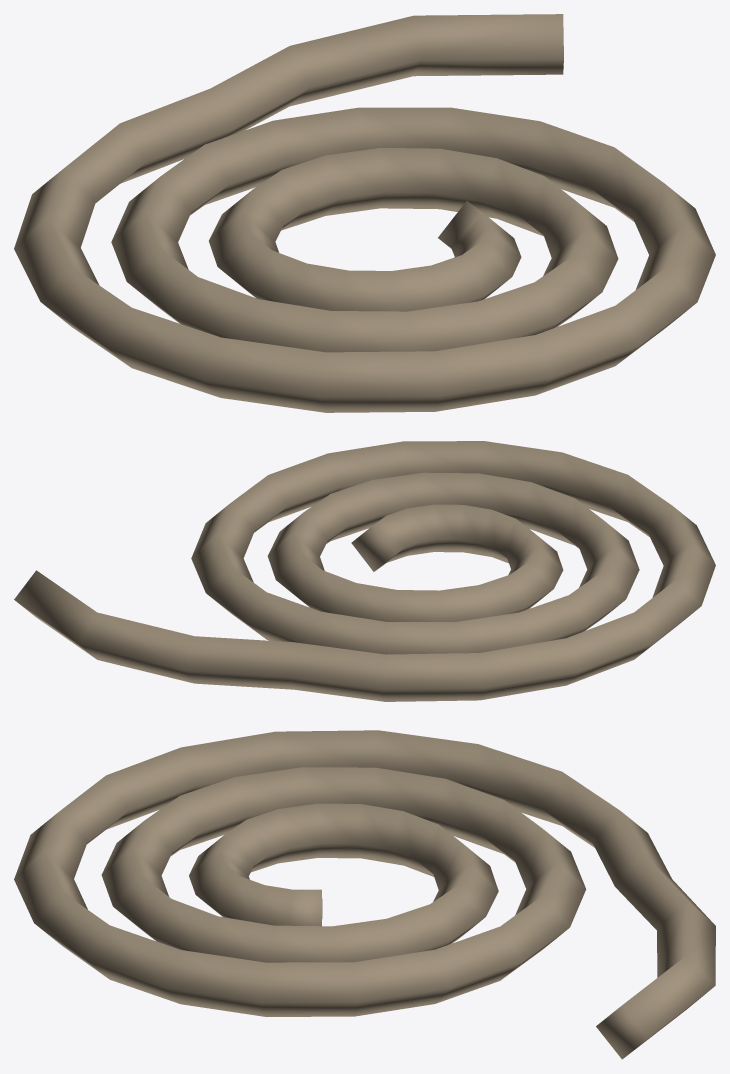
File: rope_coil_flat.glb
3 renders of one model, top to bottom at view 1: azimuth 30°, elevation 25°; view 2: azimuth 150°, elevation 25°; view 3: azimuth 270°, elevation 25°, orthographic. The views are drawn at different scales.
Visible parts, largest first — view 1: rope_coil_flat; view 2: rope_coil_flat; view 3: rope_coil_flat.
Part boxes in pixels (box(x1,y1,x2,y2)): rope_coil_flat: box(14, 14, 715, 412); rope_coil_flat: box(14, 441, 715, 701); rope_coil_flat: box(14, 730, 715, 1059).
Size of the model in its own units: 0.6481 by 0.056 by 0.6549.
